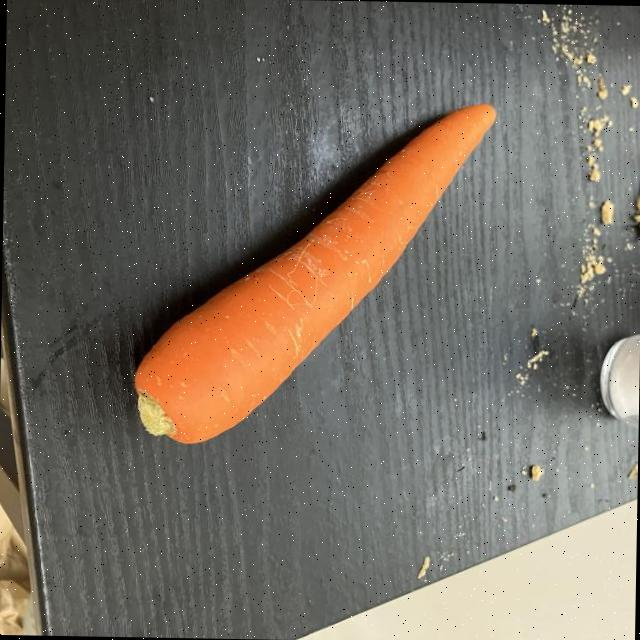carrot: (134, 104, 494, 443)
